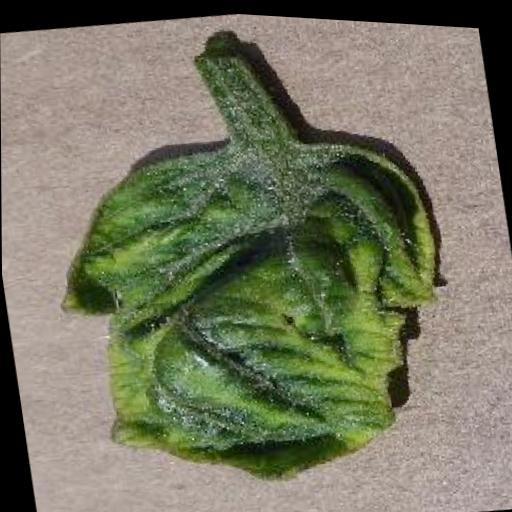Yellow Leaf Curl Virus: (35, 99, 472, 512)
